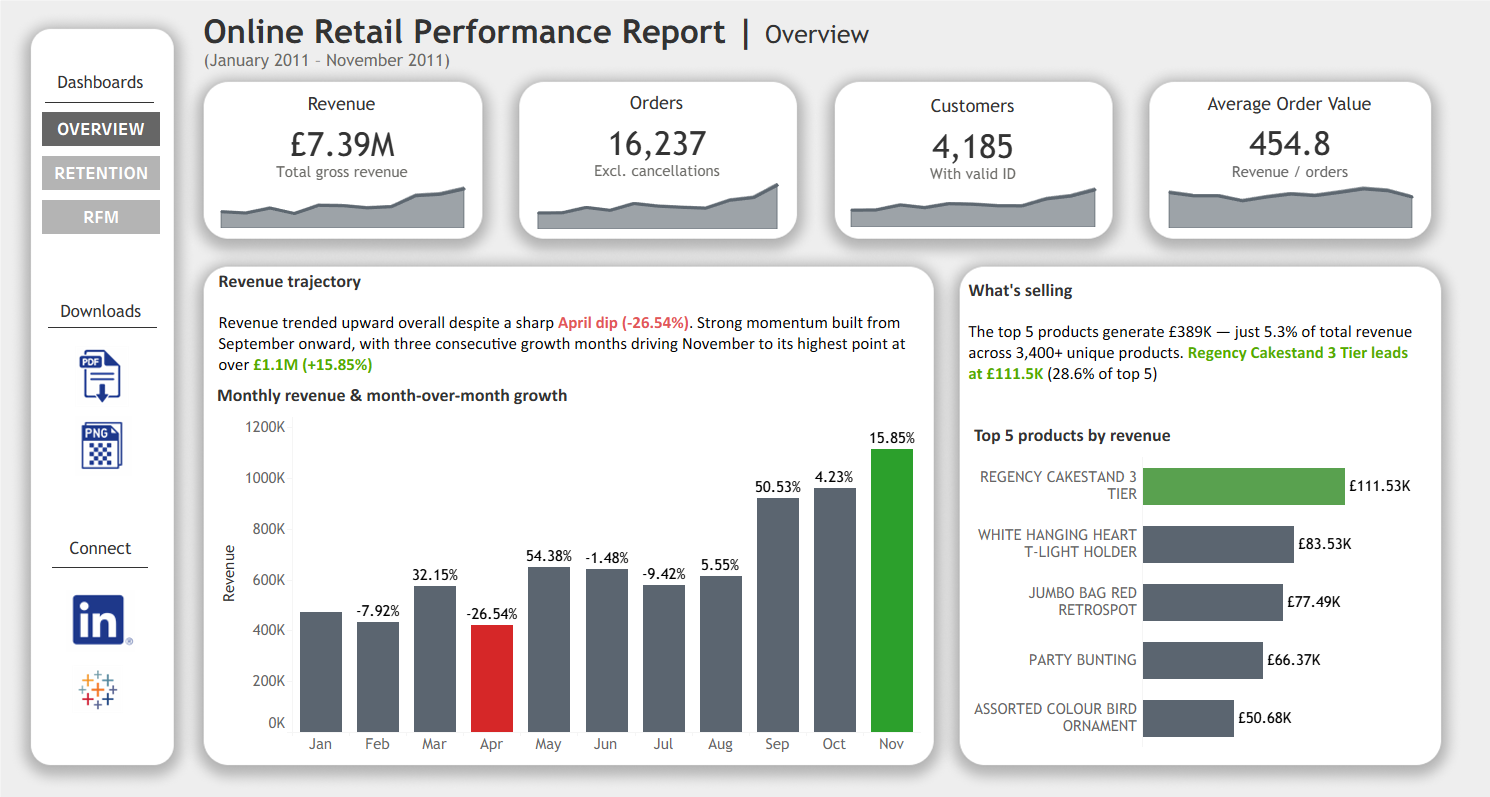

The page's visual inventory and layout, read from the dashboard file:
{"tool":"tableau","page":{"name":"Overview","canvas":[1000,1000],"units":"permille","ordinal":0},"visuals":[{"type":"image","param":"Image/Overview Layout.png","box":[0,0,1000,1000]},{"type":"text","box":[134,11.2,602,83.8]},{"type":"text","box":[36.7,85,68.7,37.5]},{"type":"worksheet","title":"Revenue","mark":"Automatic","box":[140.7,112.5,175.3,171.2]},{"type":"worksheet","title":"Orders","mark":"Automatic","box":[350.7,112.5,175.3,171.2]},{"type":"worksheet","title":"AOV","mark":"Automatic","box":[772,112.5,176.7,167.5]},{"type":"worksheet","title":"Customers","mark":"Automatic","box":[562,115,174,156.2]},{"type":"blank","box":[30.7,128.8,72.7,1.2]},{"type":"dashboard-object","box":[30.7,151.2,66.7,65]},{"type":"dashboard-object","box":[34.7,240,64.7,65]},{"type":"text","box":[143.3,342.5,466.7,161.2]},{"type":"text","box":[647.3,346.2,308,173.8]},{"type":"text","box":[38.7,361.2,66.7,37.5]},{"type":"blank","box":[32.7,400,72.7,1.2]},{"type":"dashboard-object","box":[35.3,423.8,66.7,76.2]},{"type":"worksheet","title":"Monthly revenue & month-over-month growth","mark":"Bar","rows":["Calculation_0900549600825360"],"cols":["invoice_date"],"box":[144,488.8,458.7,446.2]},{"type":"dashboard-object","box":[39.3,512.5,60.7,75]},{"type":"worksheet","title":"Top 5 Products by revenue","mark":"Automatic","rows":["description"],"cols":["Calculation_0900549600825360"],"box":[649.3,535,298,388.8]},{"type":"text","box":[44.7,657.5,66.7,37.5]},{"type":"blank","box":[35.3,700,64,1.2]},{"type":"image","param":"Image/Screenshot 2026-03-17 221749.png","box":[44.7,727.5,46,81.2]},{"type":"image","param":"Image/Screenshot 2026-03-17 221802.png","box":[44.7,822.5,42.7,60]}]}

Visuals, with their boxes on the dashboard's canvas, which has no fixed pixel size, in thousandths of its width and height (x1, y1, x2, y2). These are canvas units, not pixel positions in the 1490x797 screenshot, which may show the page scaled, cropped or inside an application window:
image: <region>0, 0, 1000, 1000</region>
text: <region>134, 11, 736, 95</region>
text: <region>37, 85, 105, 122</region>
"Revenue" worksheet: <region>141, 112, 316, 284</region>
"Orders" worksheet: <region>351, 112, 526, 284</region>
"AOV" worksheet: <region>772, 112, 949, 280</region>
"Customers" worksheet: <region>562, 115, 736, 271</region>
blank: <region>31, 129, 103, 130</region>
dashboard-object: <region>31, 151, 97, 216</region>
dashboard-object: <region>35, 240, 99, 305</region>
text: <region>143, 342, 610, 504</region>
text: <region>647, 346, 955, 520</region>
text: <region>39, 361, 105, 399</region>
blank: <region>33, 400, 105, 401</region>
dashboard-object: <region>35, 424, 102, 500</region>
"Monthly revenue & month-over-month growth" worksheet (Bar marks): <region>144, 489, 603, 935</region>
dashboard-object: <region>39, 512, 100, 588</region>
"Top 5 Products by revenue" worksheet: <region>649, 535, 947, 924</region>
text: <region>45, 658, 111, 695</region>
blank: <region>35, 700, 99, 701</region>
image: <region>45, 728, 91, 809</region>
image: <region>45, 822, 87, 882</region>
